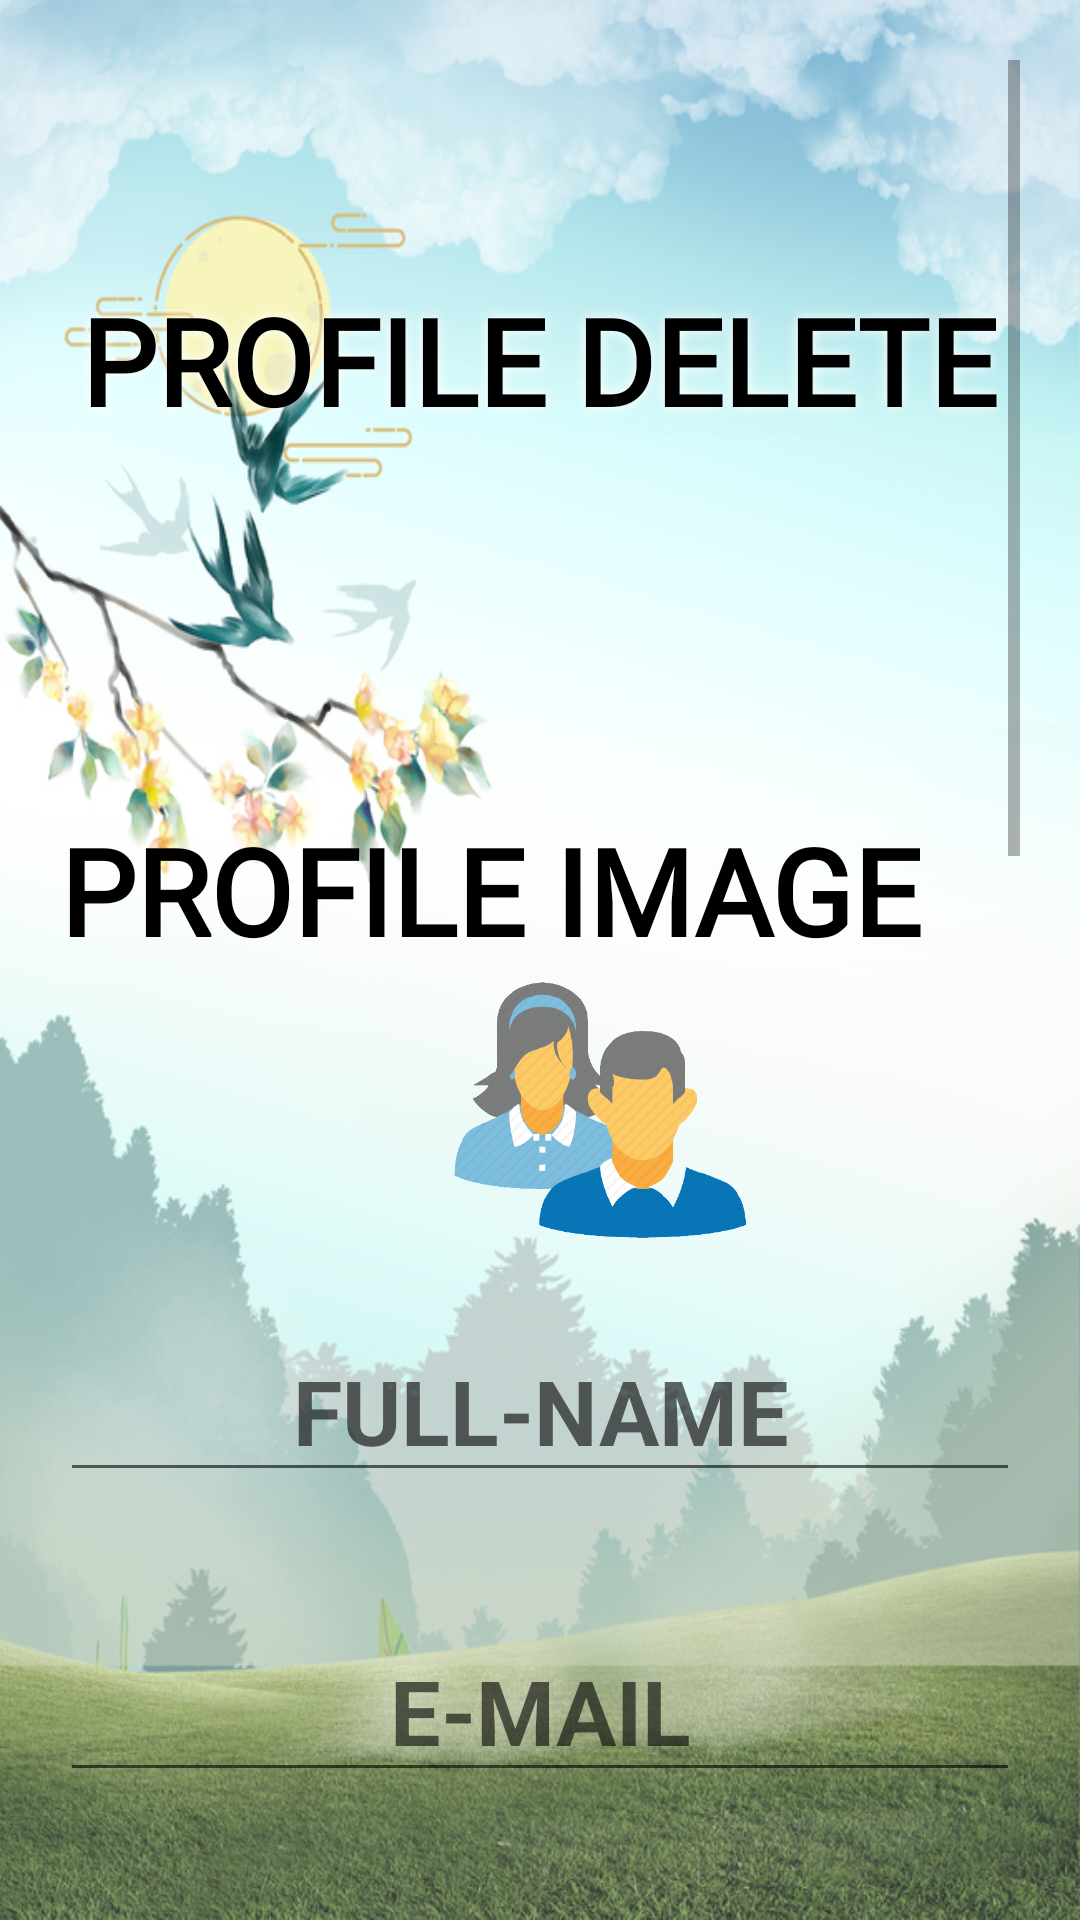

Locate icon controls on the screen. Image size 1080 × 1920, boxes as (x1, y1, x2, y2).
clients profile: (454, 982, 746, 1251)
